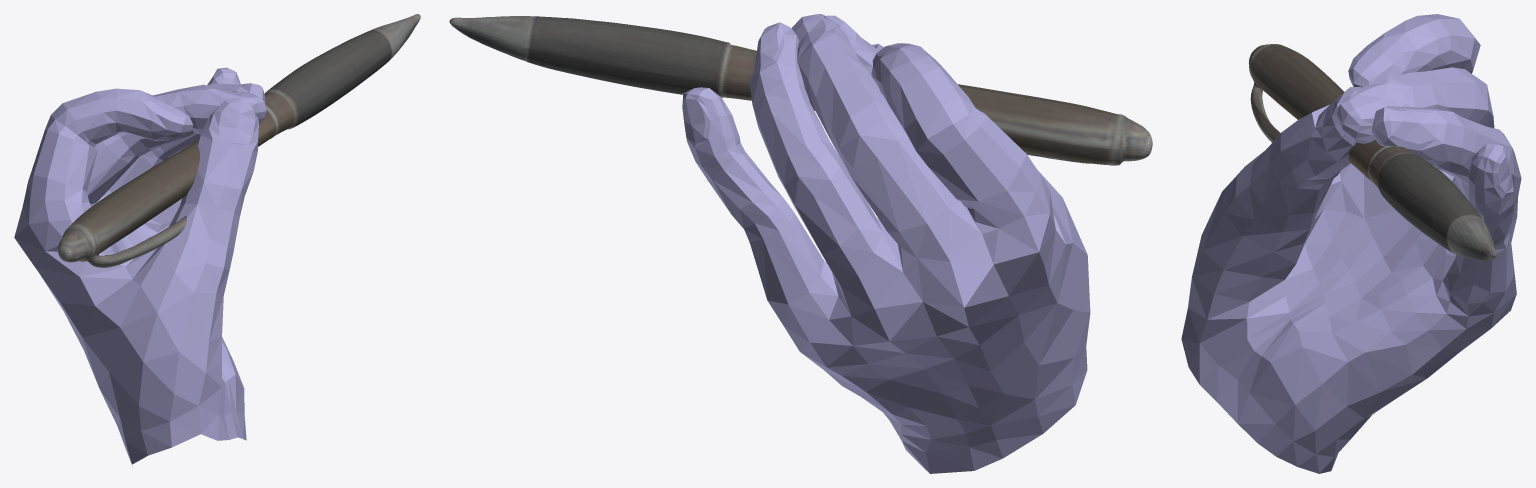
The model's file is frame_0027_source_000027_hand_object.glb.
3 views of the same model, side by side, from view 1: azimuth 30°, elevation 25°; view 2: azimuth 150°, elevation 25°; view 3: azimuth 270°, elevation 25° (orthographic). The views are drawn at different scales.
Parts seen in each view (by area): view 1: world; view 2: world; view 3: world.
Boxes of the visible parts, box(x1,y1,x2,y2) form: world: box(14, 14, 420, 464); world: box(449, 14, 1152, 473); world: box(1181, 14, 1521, 473).
Size of the model in its own units: 0.1795 by 0.1351 by 0.0959.
